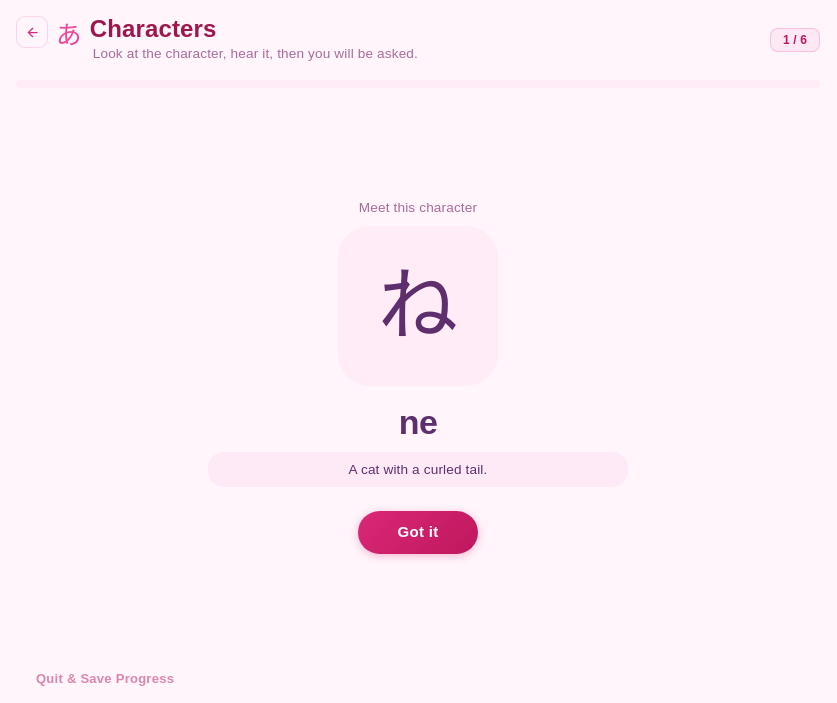
Test: KanaRound › meets only the characters the learner has never seen
This screenshot has width=837, height=703.
Expected: the text "Meet this character" is shown, [359,200,477,216]
Click the button "Got it" at {"x": 418, "y": 532}, box [358,511,478,554]
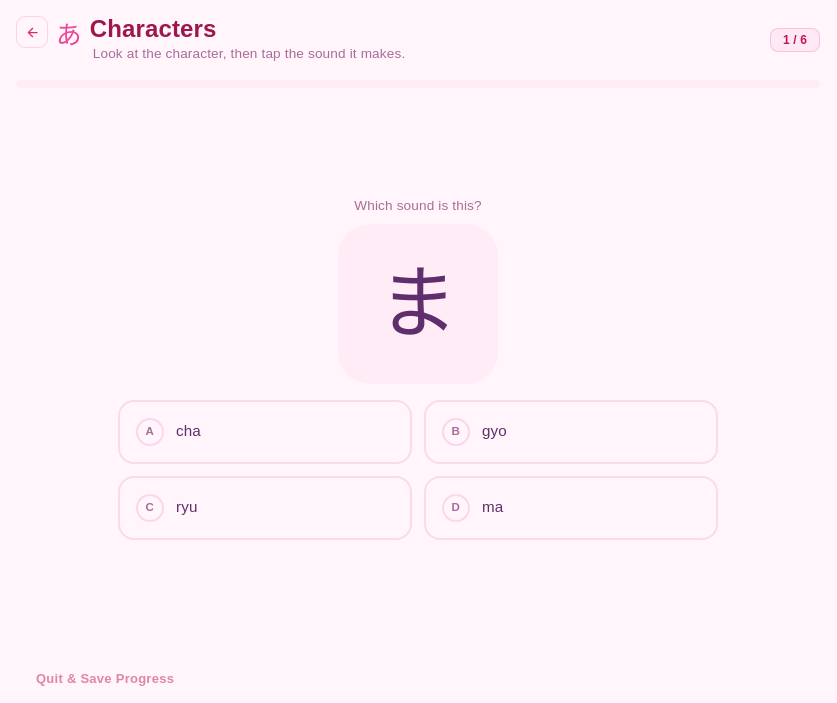
Now the text "Meet this character" is gone
